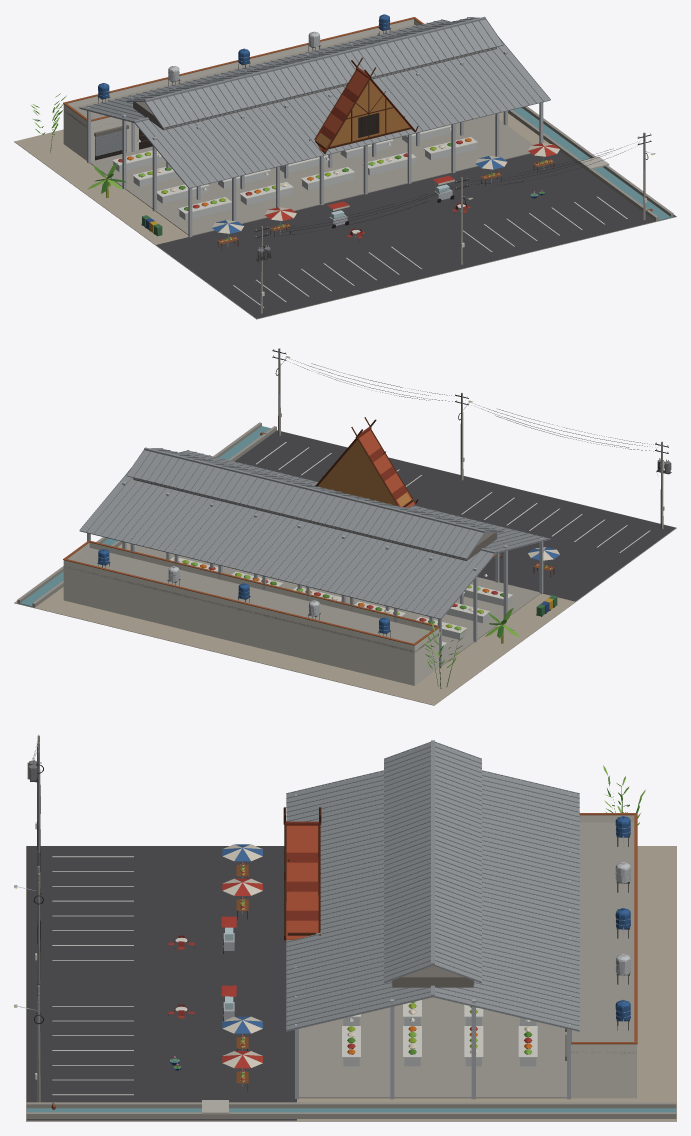
File: market.glb
The picture shows the model from 3 angles, top to bottom: view 1: azimuth 30°, elevation 25°; view 2: azimuth 150°, elevation 25°; view 3: azimuth 270°, elevation 25°; orthographic projection. The views are drawn at different scales.
Visible parts, largest first — view 1: body, windows; view 2: body; view 3: body.
Boxes of the visible parts, left/top/right/bottom form: body: left=14, top=14, right=676, bottom=319; windows: left=95, top=113, right=654, bottom=199; body: left=14, top=348, right=676, bottom=705; body: left=14, top=734, right=676, bottom=1121.
Bounding box in the file's own units: 48.64 × 14.08 × 48.78.
